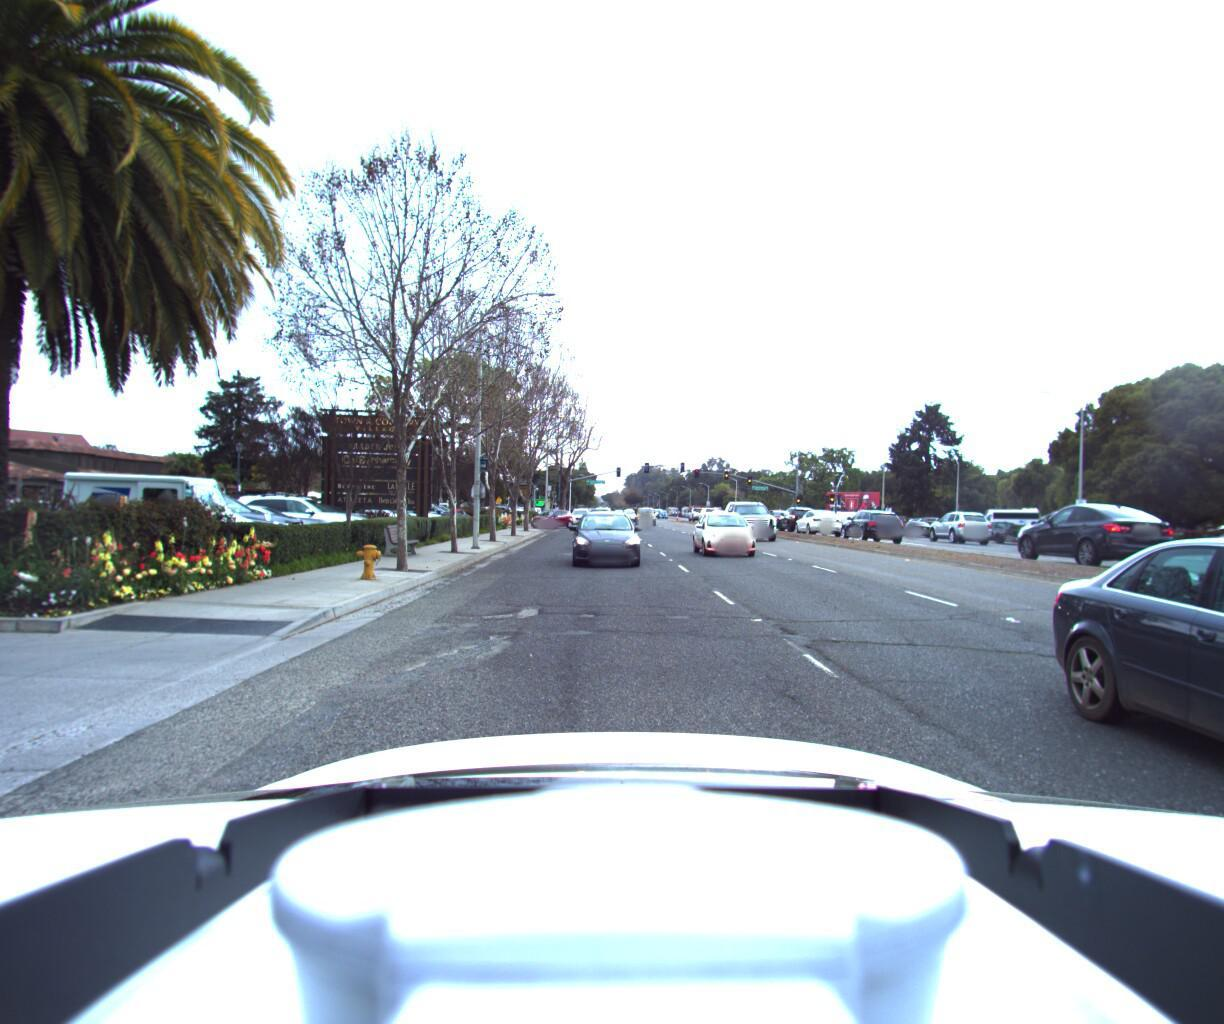car: (1123, 518, 1224, 1024), (48, 471, 272, 573), (94, 489, 316, 565), (1002, 501, 1177, 571), (219, 494, 374, 552), (174, 503, 319, 559), (1082, 515, 1214, 567), (570, 511, 642, 573), (693, 511, 773, 564), (957, 507, 1053, 550), (1074, 524, 1160, 558), (727, 503, 787, 546), (836, 510, 910, 544), (917, 511, 985, 543), (971, 519, 1033, 547), (1190, 526, 1224, 571), (794, 510, 848, 536), (775, 506, 820, 533), (526, 510, 577, 529), (893, 520, 935, 539), (568, 507, 594, 528), (635, 507, 659, 527)
